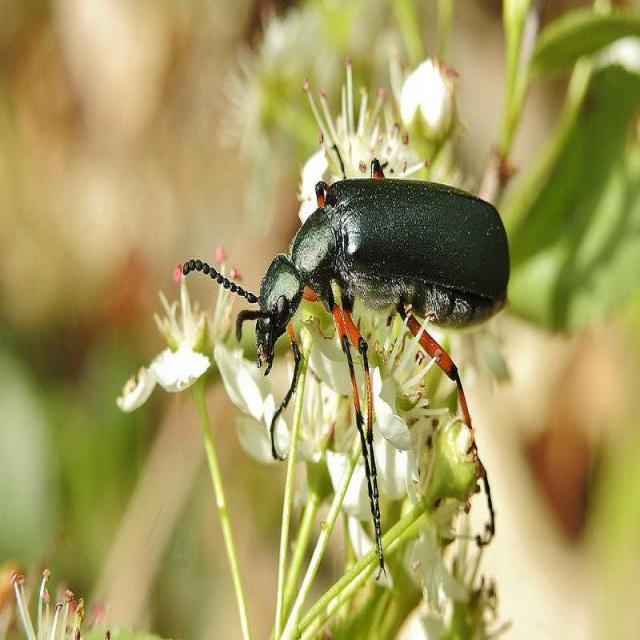BlisterBeetle-Adult-: (172, 149, 516, 565)
